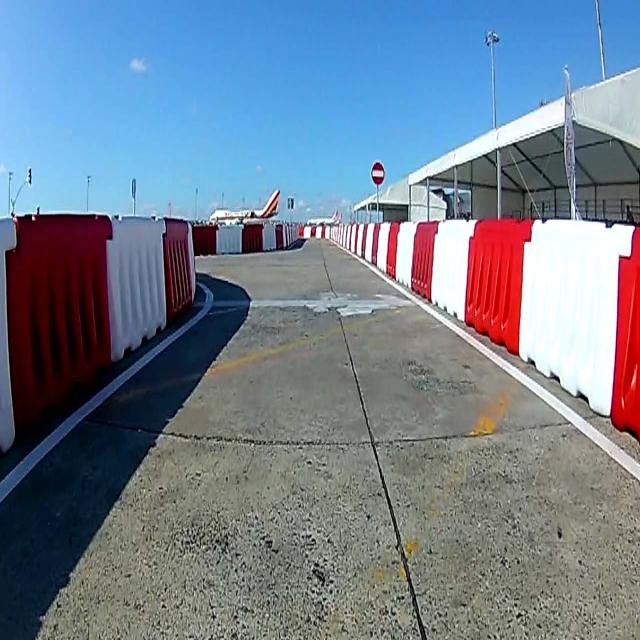girisyok: (371, 160, 385, 187)
